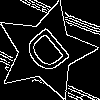D: (21, 26, 79, 84)
